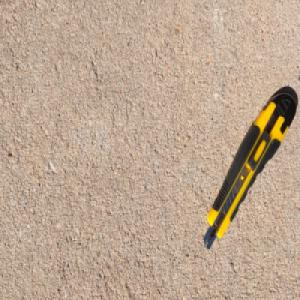Cutter: (202, 87, 296, 250)
